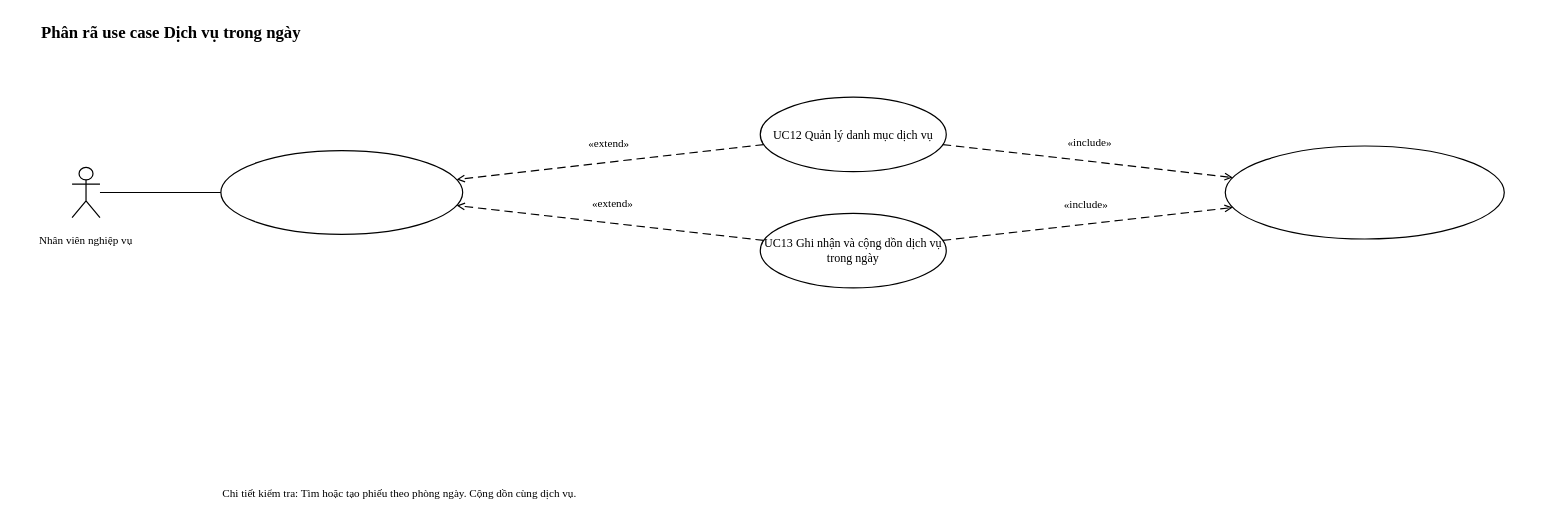
Some shapes in this 1552 by 528 pixel diagram are drawn without their labels. The shapes that lost their labels are listed below. From the top down, each one's centre as x and y in pixels, then its label:
At point (341, 192): "Thực hiện nhóm nghiệp vụ Dịch vụ trong ngày".
At point (1364, 192): "Kiểm tra quyền và điều kiện của thao tác được chọn".
